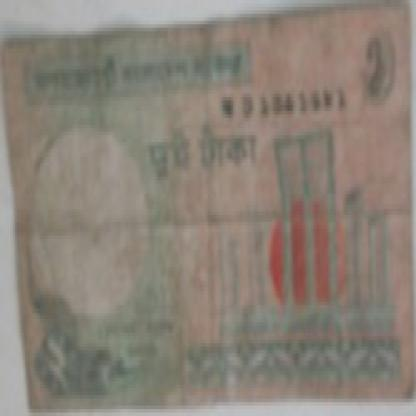two taka: (359, 35, 398, 114), (38, 330, 80, 395)
